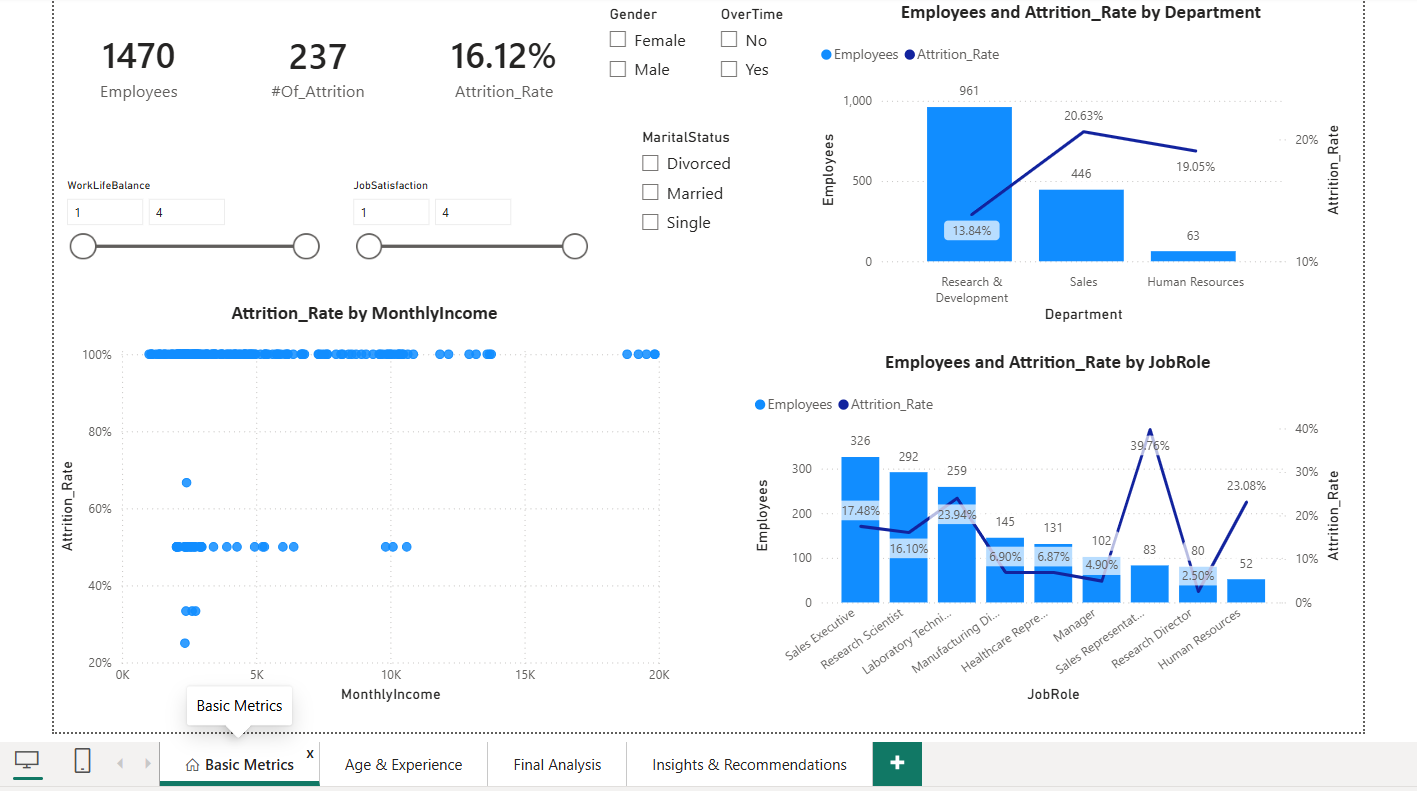

What the dashboard file says about the page in this screenshot:
{"tool":"powerbi","page":{"name":"Basic Metrics","canvas":[1280,720],"ordinal":0},"visuals":[{"type":"cardVisual","fields":{"Data":["_Measures.#Of_Attrition"]},"box":[166.5,0,184.6,137.5],"z":0},{"type":"cardVisual","fields":{"Data":["_Measures.Attrition_Rate"]},"box":[351,0,179.8,137],"z":1000},{"type":"scatterChart","fields":{"X":["Fact.MonthlyIncome"],"Y":["_Measures.Attrition_Rate"]},"box":[0,298,607.7,397.4],"z":2000},{"type":"lineStackedColumnComboChart","title":"Employees and Attrition_Rate by Department","fields":{"Category":["Dim_Department.Department"],"Y2":["_Measures.Attrition_Rate"],"Y":["CountNonNull(Fact.EmployeeNumber)"]},"box":[744.7,3.7,519.7,320.4],"z":3000},{"type":"lineStackedColumnComboChart","title":"Employees and Attrition_Rate by JobRole","fields":{"Y2":["_Measures.Attrition_Rate"],"Category":["Dim_JobRole.JobRole"],"Y":["CountNonNull(Fact.EmployeeNumber)"]},"box":[679.9,346.1,584.5,349.7],"z":4000},{"type":"slicer","fields":{"Values":["Fact.Gender"]},"box":[530.7,3.7,99,112.5],"z":5000},{"type":"slicer","fields":{"Values":["Fact.MaritalStatus"]},"box":[562.5,124.7,134.5,123.5],"z":6000},{"type":"slicer","fields":{"Values":["Fact.WorkLifeBalance"]},"box":[0,173.6,267.8,100.3],"z":7000},{"type":"slicer","fields":{"Values":["Fact.JobSatisfaction"]},"box":[279.9,173.7,250.9,100.1],"z":8000},{"type":"cardVisual","fields":{"Data":["_Measures.Total_Employees"]},"box":[0,0,166.3,137],"z":9000},{"type":"slicer","fields":{"Values":["Fact.OverTime"]},"box":[639.5,3.7,102.7,112.5],"z":10000}]}

Visuals, with their boxes on the page's 1280x720 design canvas (x1, y1, x2, y2). These are canvas units, not pixel positions in the 1417x791 screenshot, which may show the page scaled, cropped or inside an application window:
cardVisual - _Measures.#Of_Attrition: crop(166, 0, 351, 138)
cardVisual - _Measures.Attrition_Rate: crop(351, 0, 531, 137)
scatterChart - Fact.MonthlyIncome x _Measures.Attrition_Rate: crop(0, 298, 608, 695)
"Employees and Attrition_Rate by Department" lineStackedColumnComboChart: crop(745, 4, 1264, 324)
"Employees and Attrition_Rate by JobRole" lineStackedColumnComboChart: crop(680, 346, 1264, 696)
slicer - Fact.Gender: crop(531, 4, 630, 116)
slicer - Fact.MaritalStatus: crop(562, 125, 697, 248)
slicer - Fact.WorkLifeBalance: crop(0, 174, 268, 274)
slicer - Fact.JobSatisfaction: crop(280, 174, 531, 274)
cardVisual - _Measures.Total_Employees: crop(0, 0, 166, 137)
slicer - Fact.OverTime: crop(640, 4, 742, 116)
